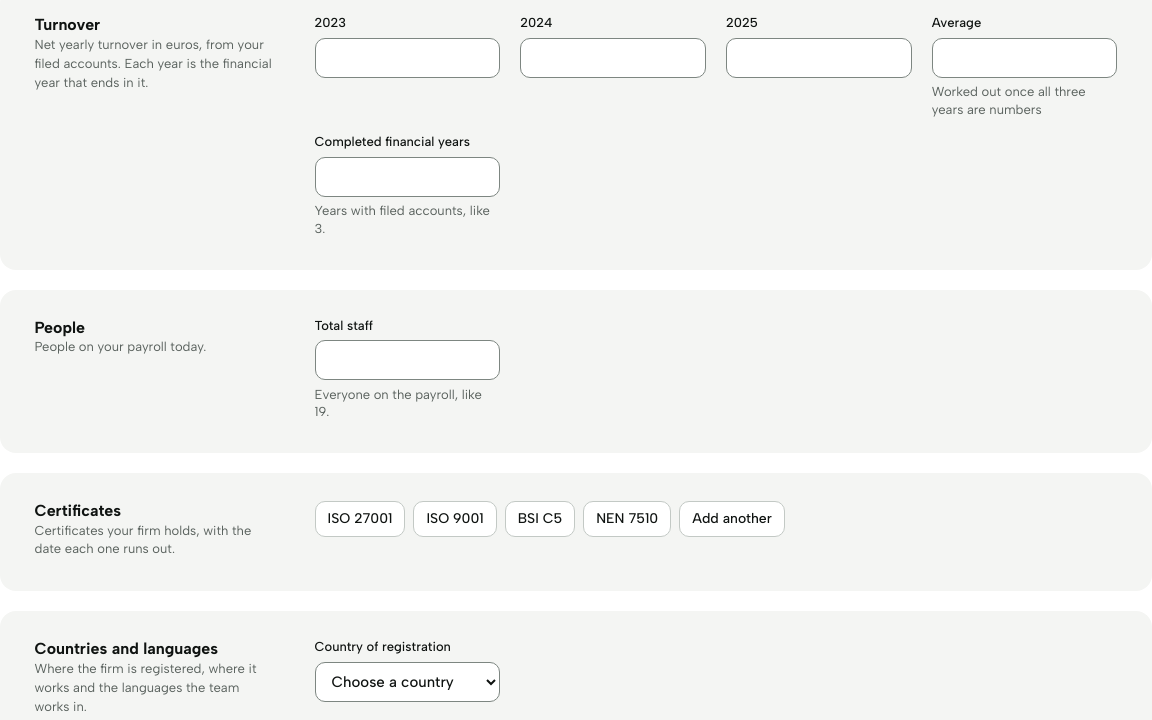
it: ProfileForm, the save status and the storage line › never blames the browser for a change the profile schema refuses
The image size is (1152, 720).
(page scrolled)
Step 1. Type "3" into the field labelled "Total staff" → {"x": 407, "y": 360}, box top-left (314, 340), bottom-right (500, 380)
(page scrolled)
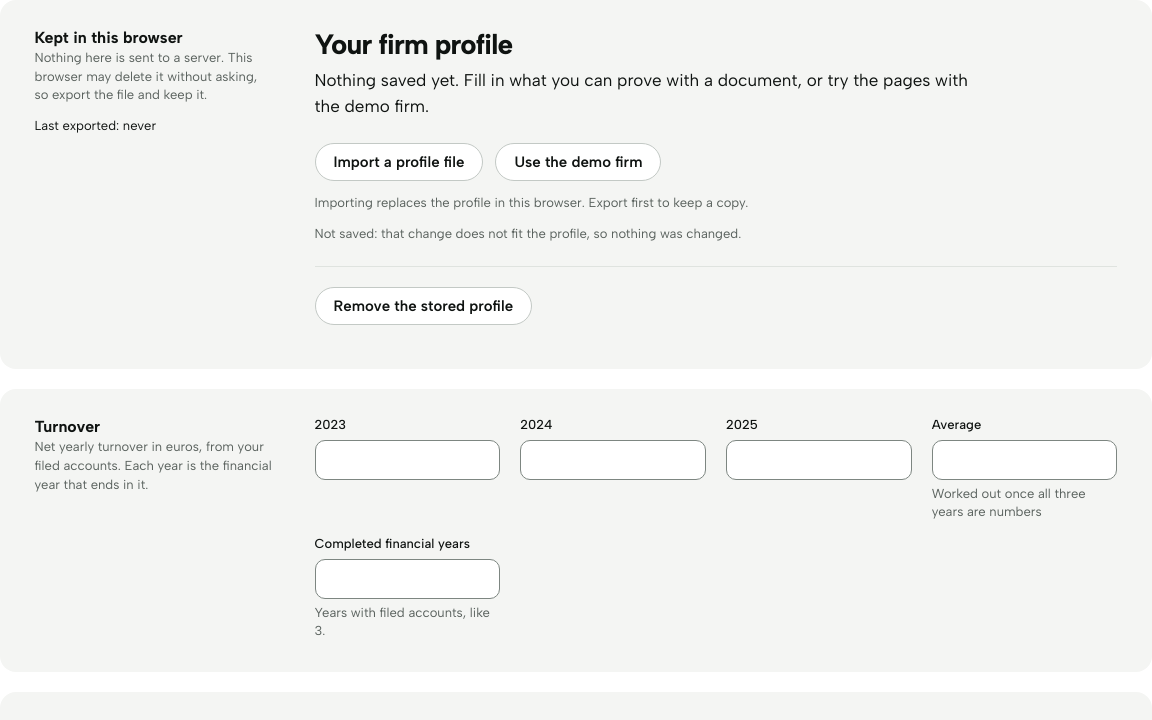
Result: the message reads "Not saved: that change does not fit the profile, so nothing was changed." at top-left (314, 226), bottom-right (741, 241)
